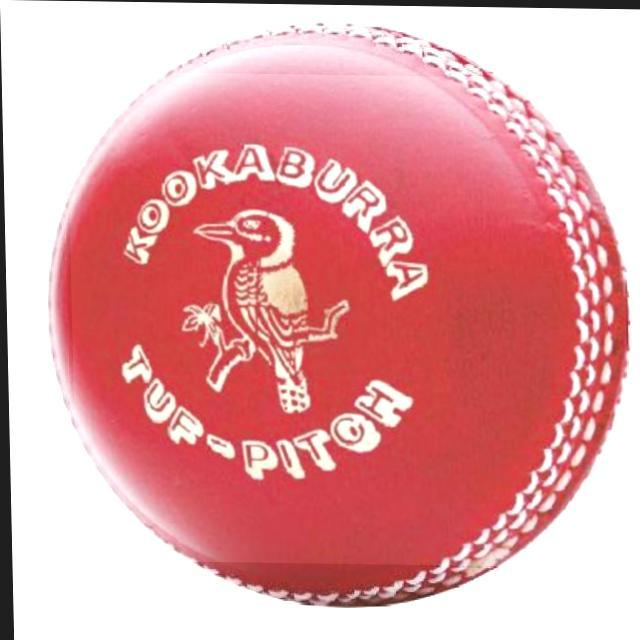-: (66, 71, 629, 566)
